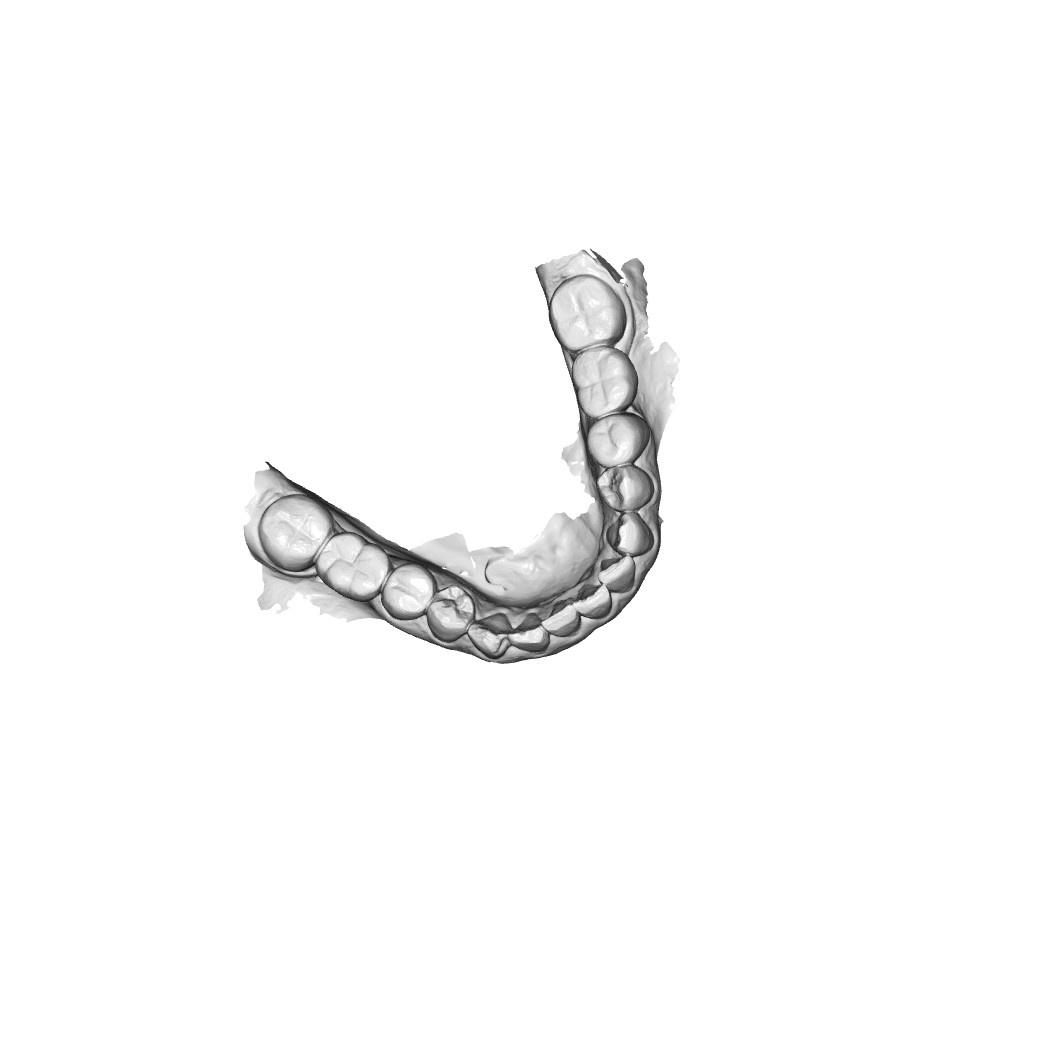canine: (465, 605, 515, 660), (606, 510, 654, 557)
incisor: (570, 579, 615, 623), (592, 554, 639, 596), (543, 602, 585, 642), (509, 613, 549, 654)
molar: (546, 273, 628, 351), (259, 494, 330, 574), (568, 347, 639, 422), (319, 532, 392, 601)
premolar: (585, 410, 650, 467), (380, 564, 435, 623), (425, 584, 477, 642), (593, 466, 653, 513)
